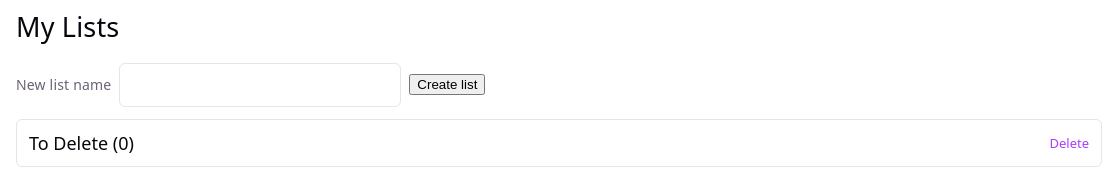
FavoriteLists › deletes a list
Click the button with class "favorite-lists__delete": (1069, 143) [1050,130,1089,156]
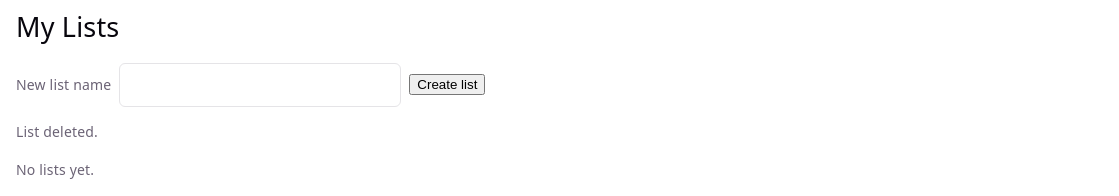
Expected: the text "No lists yet." is shown, [16,160,94,179]
